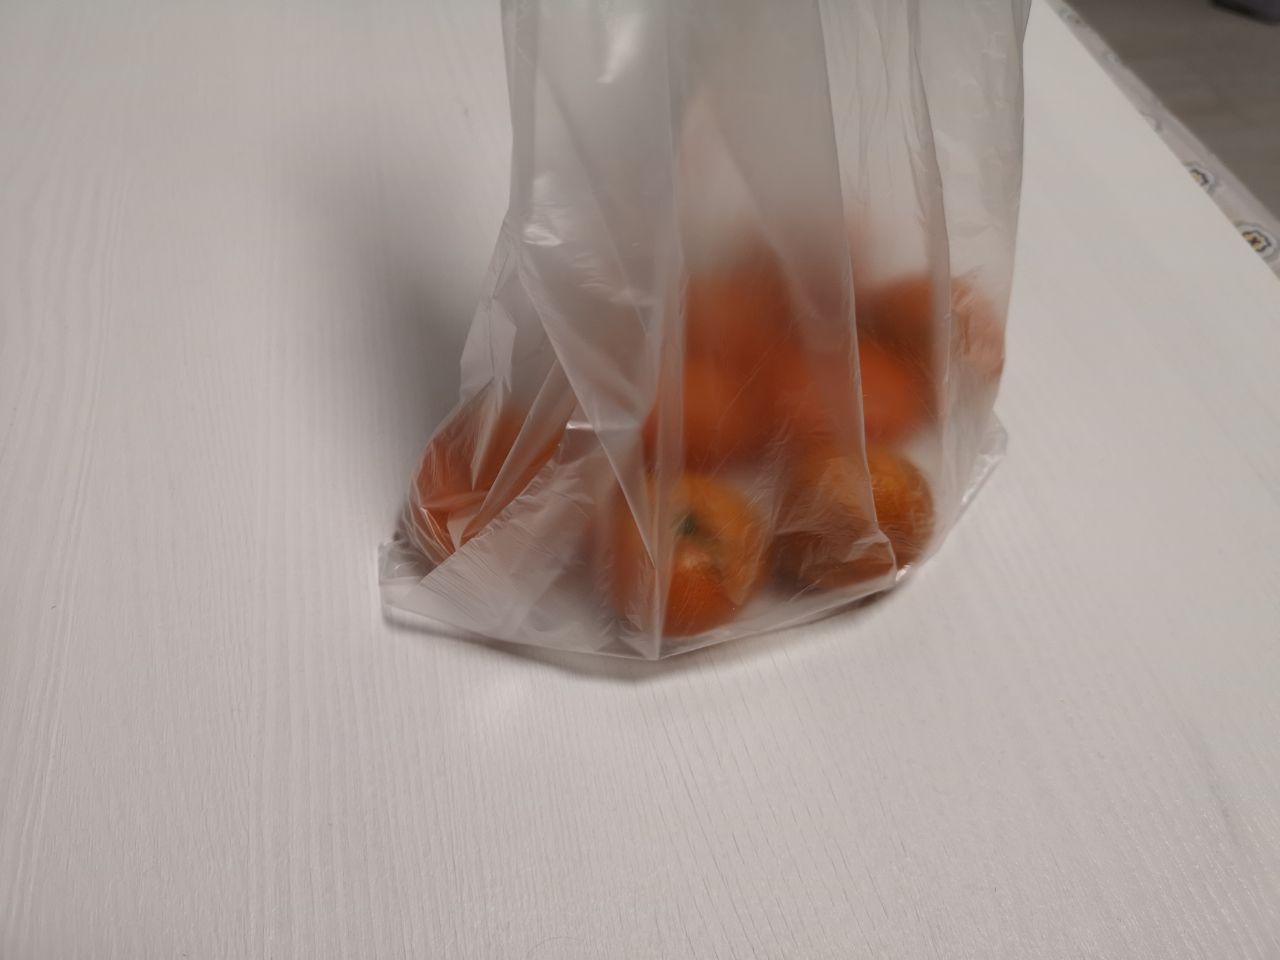clementin: (352, 162, 1052, 708)
